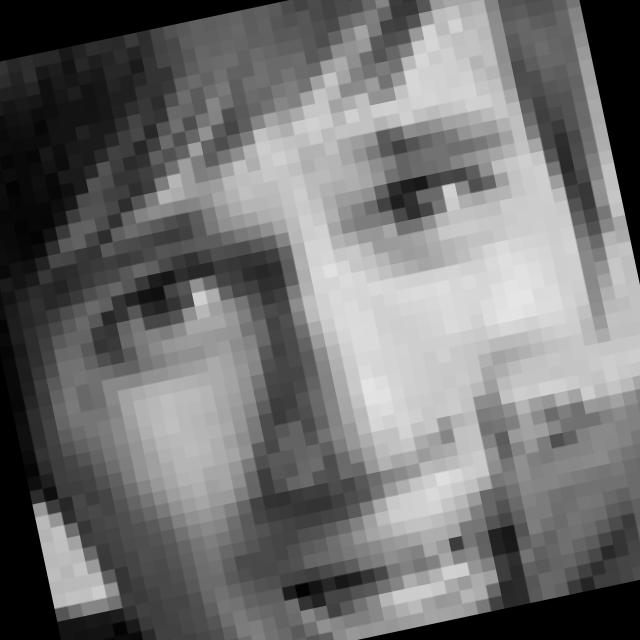fear: (25, 101, 602, 640)
